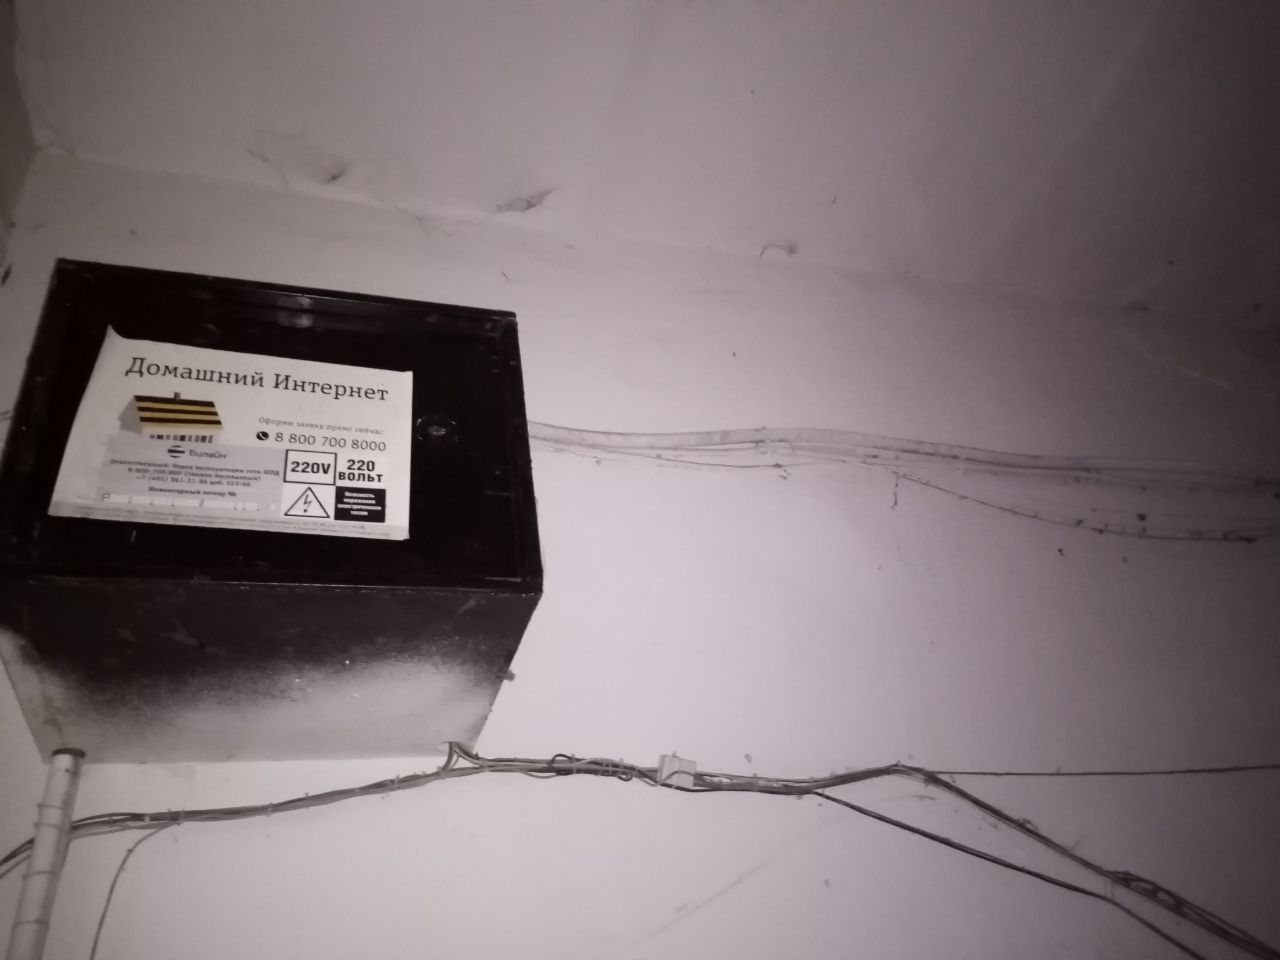shta-9m: (11, 245, 554, 770)
